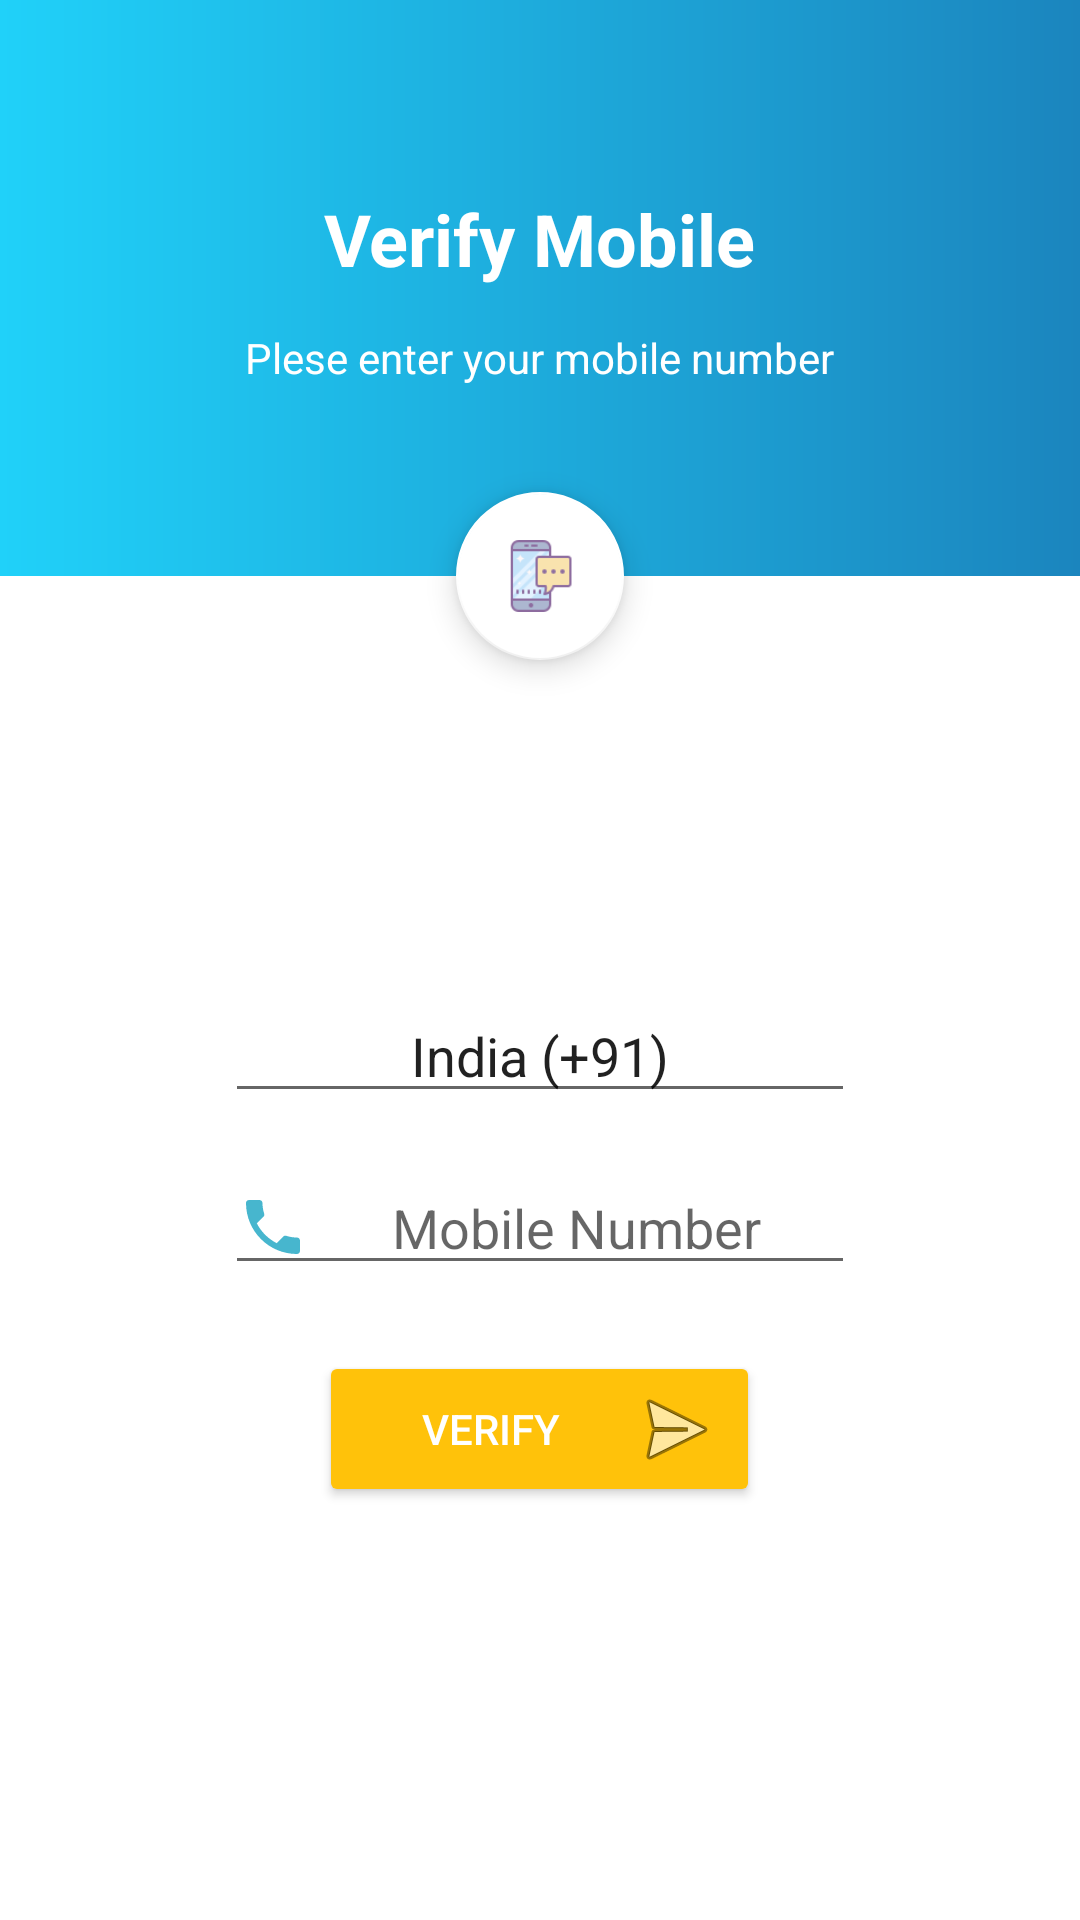

Icons on this 1080 x 1920 Android screen, each with the point to tap as (x=x, y=y):
otp: (x=540, y=576)
